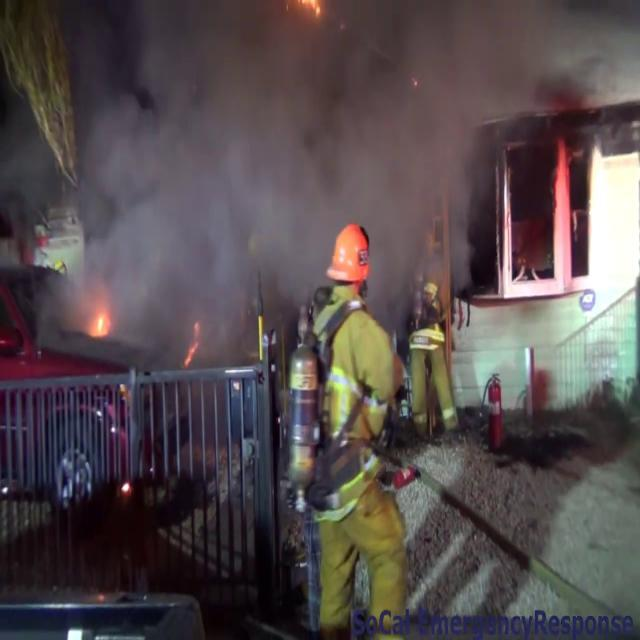Smoke: (6, 0, 612, 266)
